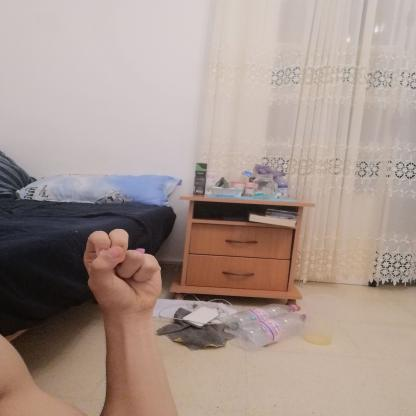QAAF: (70, 223, 176, 322)
